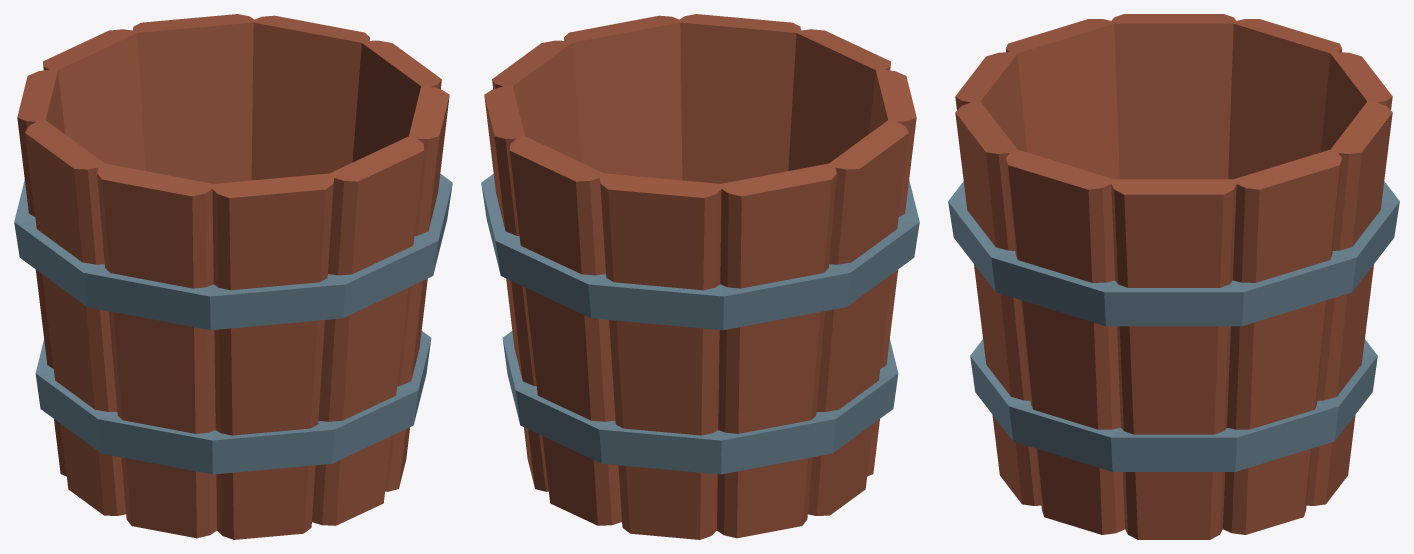
The model's file is Bucket.fbx.
The picture shows the model from 3 angles, left to right: view 1: azimuth 30°, elevation 25°; view 2: azimuth 150°, elevation 25°; view 3: azimuth 270°, elevation 25°; orthographic projection.
Parts seen in each view (by area): view 1: Bucket; view 2: Bucket; view 3: Bucket.
Boxes of the visible parts, <box> form: Bucket: <box>14,14,452,539</box>; Bucket: <box>481,14,919,539</box>; Bucket: <box>948,14,1399,539</box>.
Size of the model in its own units: 0.4289 by 0.451 by 0.4032.
